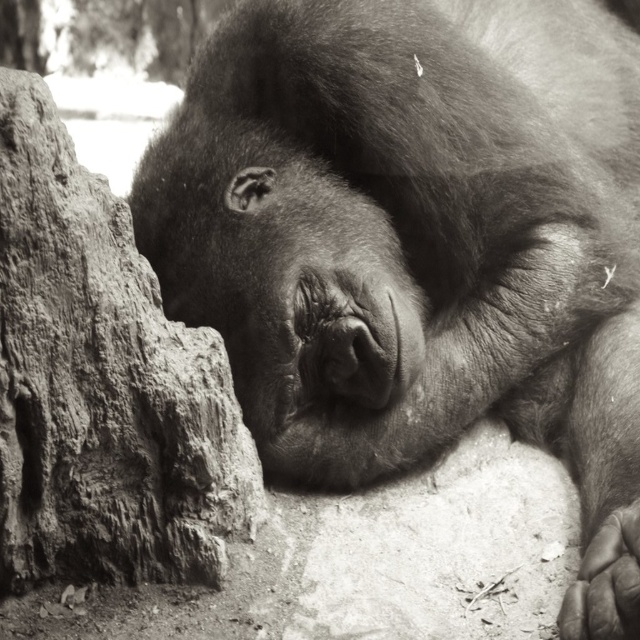Monkey: (125, 0, 640, 639)
